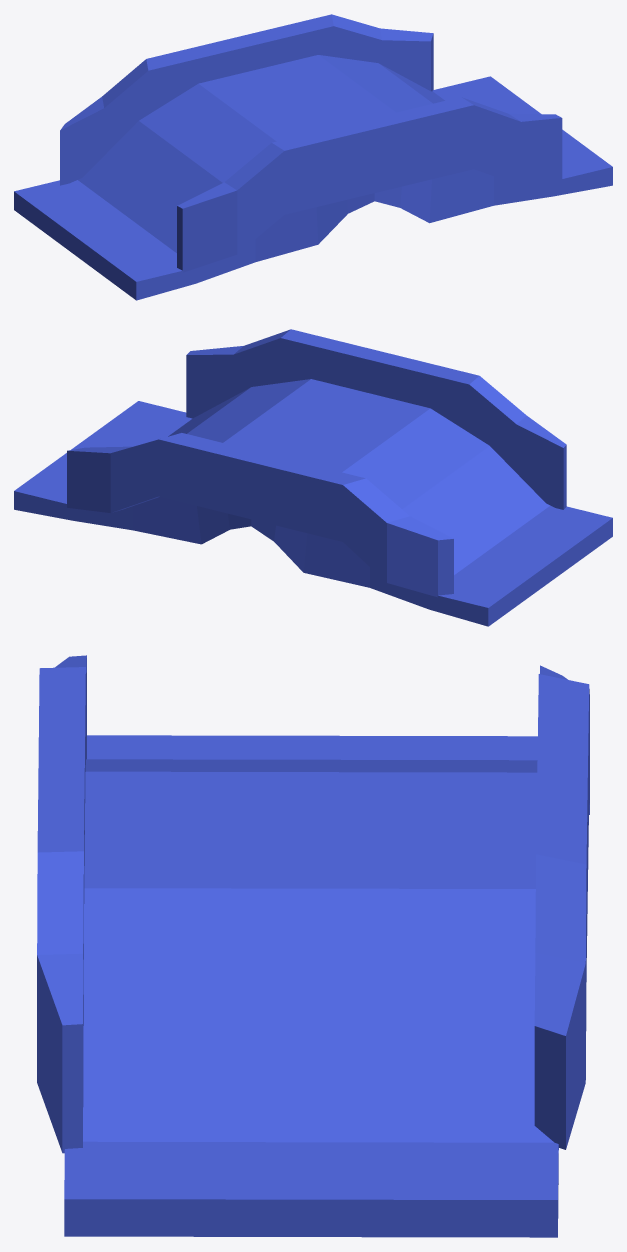
File: Road_Blue.fbx
3 renders of one model, top to bottom at view 1: azimuth 30°, elevation 25°; view 2: azimuth 150°, elevation 25°; view 3: azimuth 270°, elevation 25°, orthographic. The views are drawn at different scales.
Visible parts, largest first — view 1: Bridge; view 2: Bridge; view 3: Bridge.
Part boxes in pixels (left/top/right/bottom): Bridge: left=14, top=14, right=612, bottom=300; Bridge: left=14, top=329, right=612, bottom=626; Bridge: left=37, top=655, right=589, bottom=1237.
Bounding box in the file's own units: 126 × 30.58 × 63.36.
